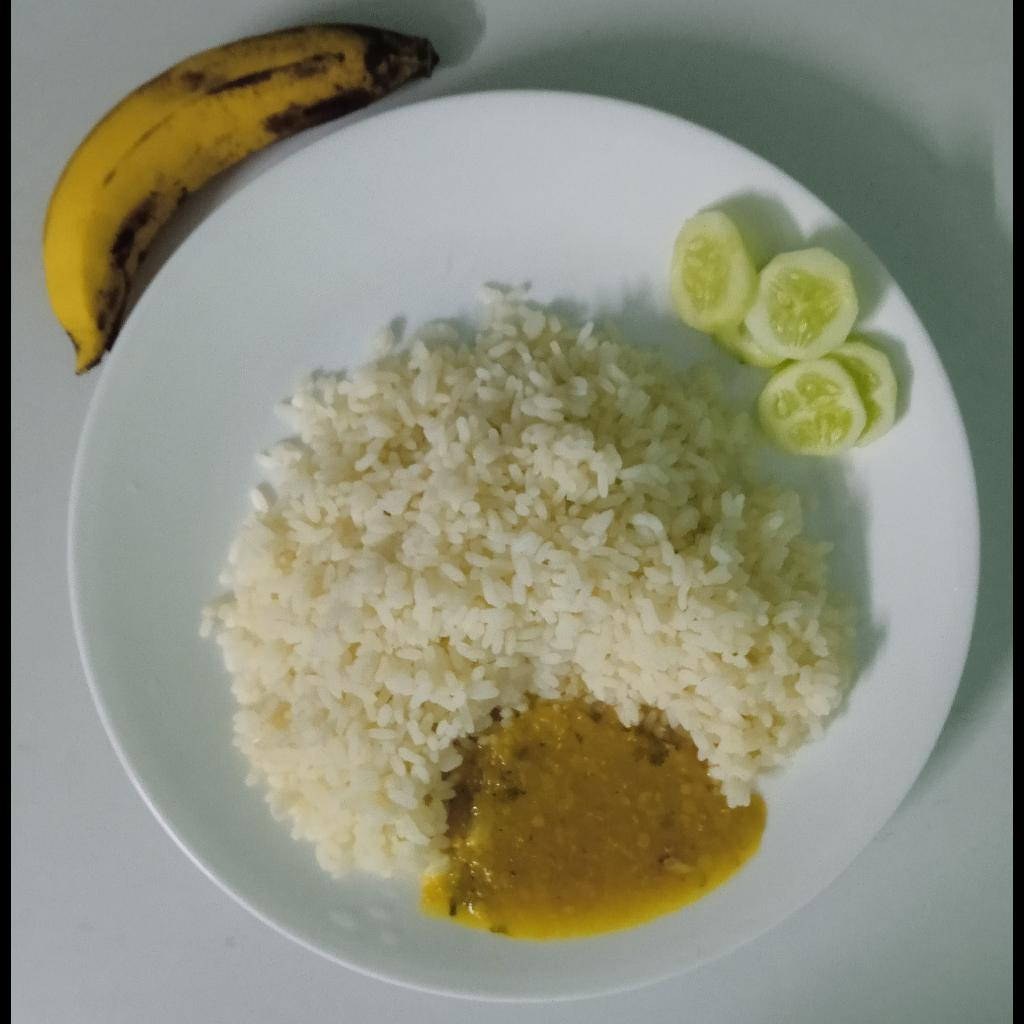banana: (43, 23, 440, 378)
cucumber: (671, 207, 900, 456)
daal: (422, 707, 767, 939)
rice: (199, 284, 858, 882)
